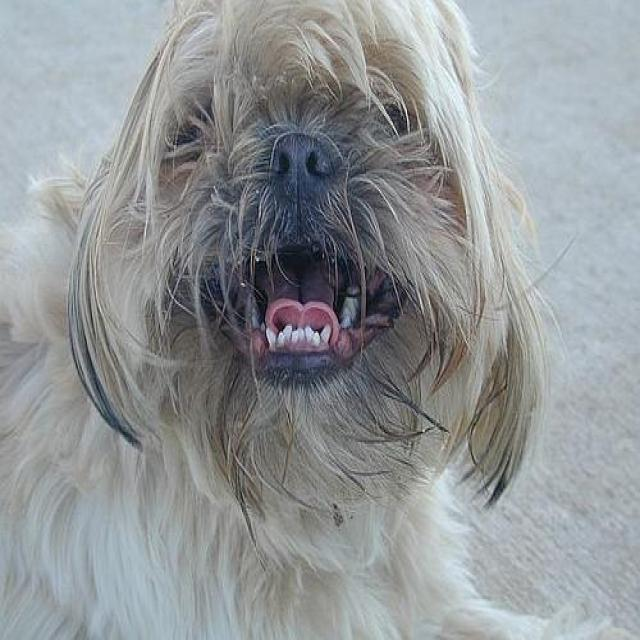shih_tzu: (3, 4, 627, 638)
